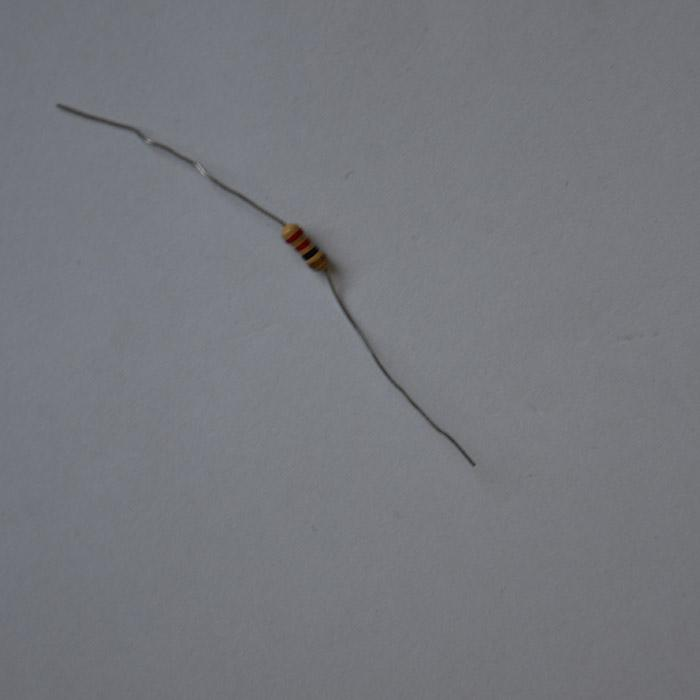resistor: (281, 221, 328, 274)
